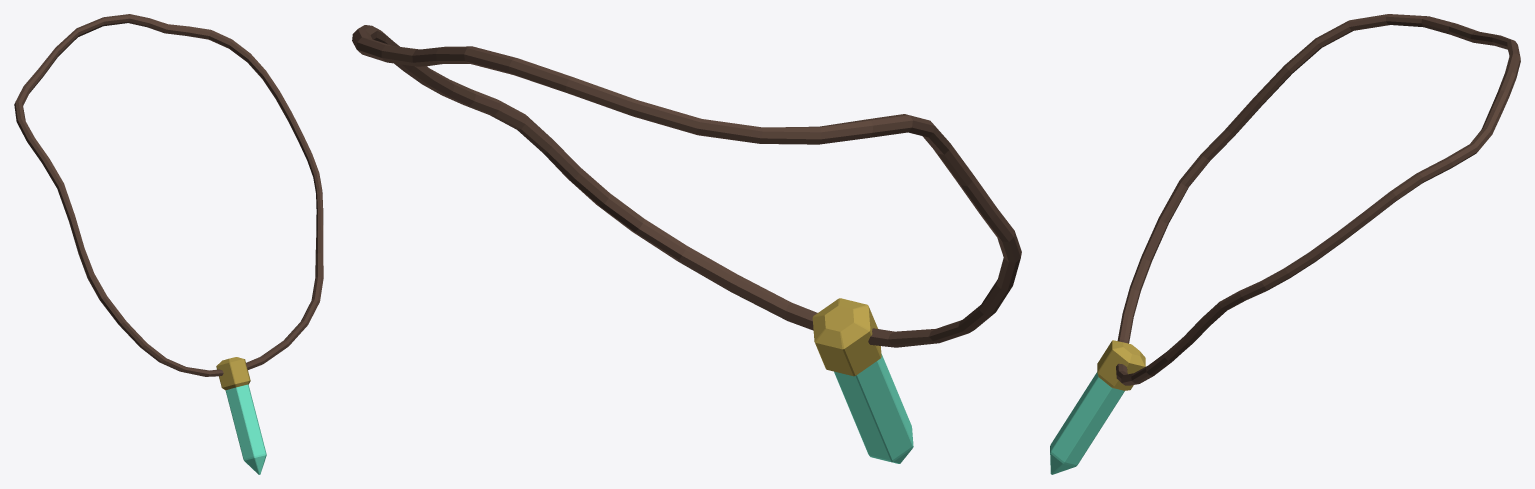
File: Serpent Tooth.fbx
3 views of the same model, side by side, from view 1: azimuth 30°, elevation 25°; view 2: azimuth 150°, elevation 25°; view 3: azimuth 270°, elevation 25° (orthographic). The views are drawn at different scales.
Visible parts, largest first — view 1: Necklace3; view 2: Necklace3; view 3: Necklace3.
Part boxes in pixels (x1=…): Necklace3: x1=14, y1=14, x2=323, y2=474; Necklace3: x1=352, y1=25, x2=1021, y2=463; Necklace3: x1=1050, y1=14, x2=1520, y2=474.
Bounding box in the file's own units: 16.62 × 19.74 × 19.45.
